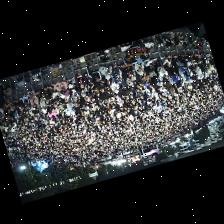person: (85, 60, 102, 83), (155, 60, 168, 79), (74, 70, 86, 88), (150, 73, 161, 92), (120, 63, 133, 77), (150, 70, 162, 85), (177, 59, 188, 75), (54, 80, 67, 93), (40, 85, 53, 98), (86, 78, 96, 94), (100, 65, 112, 78), (144, 59, 155, 72), (135, 70, 146, 82), (69, 86, 78, 100), (163, 53, 172, 67), (111, 77, 119, 92), (172, 73, 182, 85), (134, 61, 144, 73), (96, 80, 105, 93), (111, 64, 119, 78), (117, 84, 125, 98), (102, 75, 112, 86), (166, 81, 175, 93), (125, 85, 134, 97), (52, 88, 61, 100), (30, 95, 38, 108), (25, 103, 35, 113), (122, 78, 131, 89), (13, 98, 22, 109), (48, 108, 56, 120), (178, 67, 186, 79), (22, 92, 29, 105), (27, 89, 36, 99), (51, 98, 60, 108), (168, 76, 176, 87), (178, 54, 186, 65), (40, 96, 46, 110), (99, 93, 107, 103), (171, 56, 178, 67), (117, 68, 122, 83), (81, 84, 87, 96), (8, 99, 15, 109), (67, 79, 75, 87), (61, 94, 69, 102), (185, 53, 192, 61), (58, 103, 63, 114), (200, 52, 206, 61), (104, 86, 110, 95), (45, 97, 53, 103), (64, 89, 69, 96), (206, 53, 210, 59)
